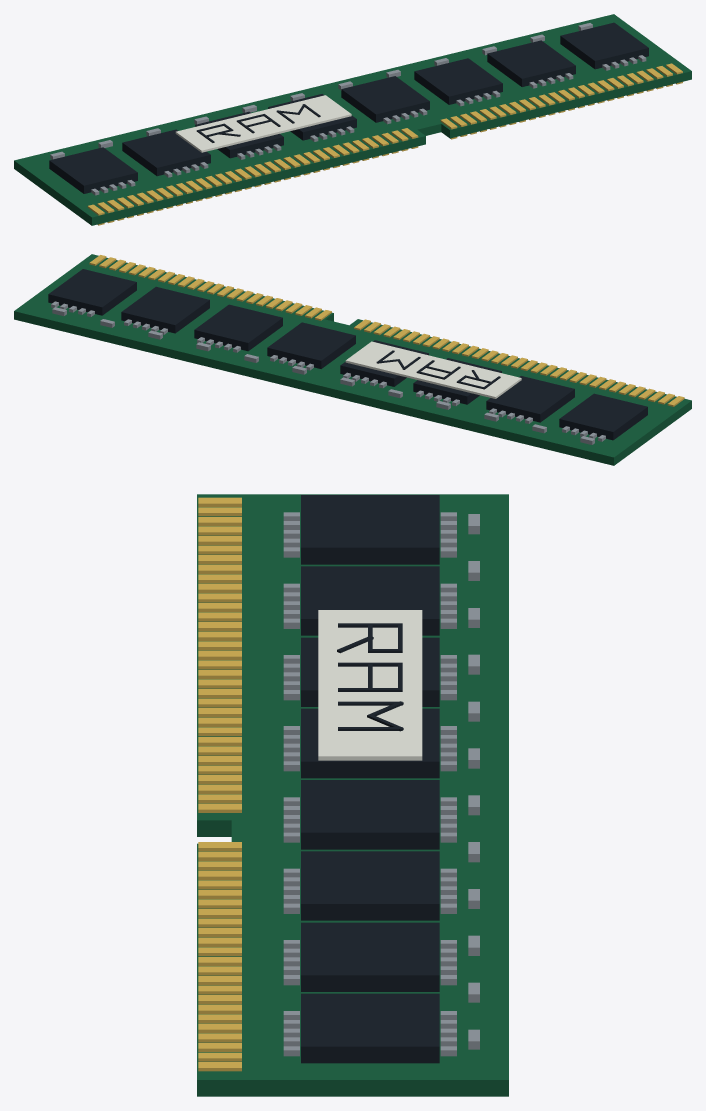
File: ram.glb
The picture shows the model from 3 angles, top to bottom: view 1: azimuth 30°, elevation 25°; view 2: azimuth 150°, elevation 25°; view 3: azimuth 270°, elevation 25°; orthographic projection. The views are drawn at different scales.
Parts seen in each view (by area): view 1: RAM_pcb, RAM_black, RAM_gold, RAM_white, RAM_metal; view 2: RAM_pcb, RAM_black, RAM_gold, RAM_white, RAM_metal; view 3: RAM_pcb, RAM_black, RAM_gold, RAM_metal, RAM_white.
Part boxes in pixels (bbox=[...]): RAM_pcb: bbox=[14, 14, 691, 225]; RAM_black: bbox=[49, 22, 648, 193]; RAM_gold: bbox=[87, 63, 682, 225]; RAM_white: bbox=[175, 95, 351, 152]; RAM_metal: bbox=[50, 23, 646, 195]; RAM_pcb: bbox=[14, 254, 691, 465]; RAM_black: bbox=[48, 269, 647, 440]; RAM_gold: bbox=[89, 255, 684, 406]; RAM_white: bbox=[345, 341, 521, 398]; RAM_metal: bbox=[51, 301, 605, 444]; RAM_pcb: bbox=[197, 494, 508, 1096]; RAM_black: bbox=[301, 495, 439, 1063]; RAM_gold: bbox=[198, 497, 241, 1071]; RAM_metal: bbox=[283, 512, 479, 1056]; RAM_white: bbox=[318, 610, 422, 760].
Bounding box in the file's own units: 0.6 × 0.027 × 0.135.
